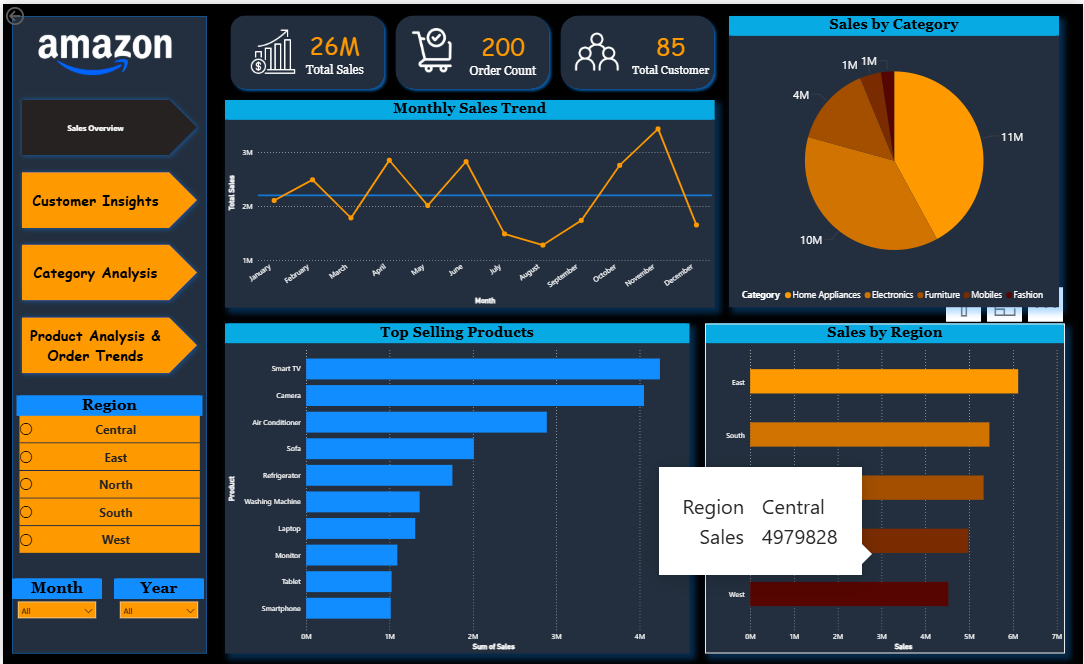

The dashboard page shown, as its layout file describes it:
{"tool":"powerbi","page":{"name":" Sales Overview","canvas":[1800,1100],"ordinal":0},"visuals":[{"type":"group","id":"g1","title":"Group 1","box":[370,10.8,274.6,140.6],"z":0,"group":"g3"},{"type":"shape","box":[15,20,325,1062.5],"z":0},{"type":"group","id":"g2","title":"Group 2","box":[644.1,10,274.6,140.6],"z":1000,"group":"g3"},{"type":"shape","box":[370,10.8,274.6,140.6],"z":1000,"group":"g1"},{"type":"clusteredBarChart","fields":{"Y":["Sum(Amazon_Sales.Sales)"],"Category":["Amazon_Sales.Region"]},"box":[1170,532.9,600,550],"z":1000},{"type":"group","id":"g3","title":"Group 4","box":[370,10,824,140],"z":2000},{"type":"group","id":"g4","title":"Group 3","box":[919.2,10.8,274.6,140.6],"z":2000,"group":"g3"},{"type":"card","fields":{"Values":["Sum(Amazon_Sales.Sales)"]},"box":[480,29.5,145.2,106.6],"z":2000,"group":"g1"},{"type":"pieChart","title":"Sales by Category","fields":{"Category":["Amazon_Sales.Category"],"Y":["Sum(Amazon_Sales.Sales)"]},"box":[1210,20,550,485],"z":3000},{"type":"image","box":[394,43.6,110,73.8],"z":3000,"group":"g1"},{"type":"shape","box":[644.1,10,274.6,140.6],"z":4000,"group":"g2"},{"type":"lineChart","title":"Monthly Sales Trend","fields":{"Category":["Amazon_Sales.Date.Variation.Date Hierarchy.Month"],"Y":["Sum(Amazon_Sales.Sales)"]},"box":[370,160,816,346],"z":4000},{"type":"clusteredBarChart","title":"Top Selling Products","fields":{"Category":["Amazon_Sales.Product"],"Y":["Sum(Amazon_Sales.Sales)"]},"box":[370,532.9,774.3,550],"z":5000},{"type":"actionButton","box":[0,0,100,40],"z":6000},{"type":"shape","box":[919.2,10.8,274.6,140.6],"z":6000,"group":"g4"},{"type":"image","box":[0,20,340,130],"z":7000},{"type":"image","box":[936.7,44,105,73.8],"z":7000,"group":"g4"},{"type":"card","fields":{"Values":["Amazon_Sales.Total Customer"]},"box":[1035.6,37.8,149.9,86.8],"z":8000,"group":"g4"},{"type":"slicer","title":"Year","fields":{"Values":["Amazon_Sales.Date.Variation.Date Hierarchy.Year"]},"box":[183.8,957.5,150,70],"z":8000},{"type":"pageNavigator","box":[22.5,150,310,475],"z":9000},{"type":"card","fields":{"Values":["Sum(Amazon_Sales.Order_ID)"]},"box":[761,29,140.6,104.9],"z":10000,"group":"g2"},{"type":"listSlicer","fields":{"Values":["Amazon_Sales.Region"]},"box":[22.5,715,310,225],"z":10000},{"type":"image","box":[660.4,41.2,105,73.8],"z":10500,"group":"g2"},{"type":"slicer","title":"Month","fields":{"Values":["Amazon_Sales.Date.Variation.Date Hierarchy.Month"]},"box":[15,957.5,150,70],"z":11000}]}

Visuals, with their boxes in screenshot pixels (x1, y1, x2, y2), scaled from the page's 1800x1100 canvas onto the 1084x664 screenshot:
"Group 1" group: [223,7,388,91]
shape: [9,12,205,653]
"Group 2" group: [388,6,553,91]
shape: [223,7,388,91]
clusteredBarChart - Sum(Amazon_Sales.Sales) x Amazon_Sales.Region: [705,322,1066,654]
"Group 4" group: [223,6,719,91]
"Group 3" group: [554,7,719,91]
card - Sum(Amazon_Sales.Sales): [289,18,377,82]
"Sales by Category" pieChart: [729,12,1060,305]
image: [237,26,304,71]
shape: [388,6,553,91]
"Monthly Sales Trend" lineChart: [223,97,714,305]
"Top Selling Products" clusteredBarChart: [223,322,689,654]
actionButton: [0,0,60,24]
shape: [554,7,719,91]
image: [0,12,205,91]
image: [564,27,627,71]
card - Amazon_Sales.Total Customer: [624,23,714,75]
"Year" slicer: [111,578,201,620]
pageNavigator: [14,91,200,377]
card - Sum(Amazon_Sales.Order_ID): [458,18,543,81]
listSlicer - Amazon_Sales.Region: [14,432,200,567]
image: [398,25,461,69]
"Month" slicer: [9,578,99,620]
